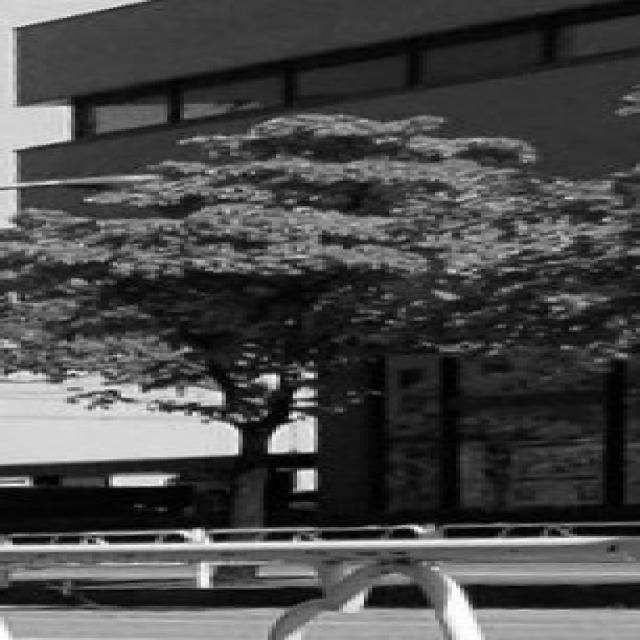dogwood: (0, 114, 640, 585)
